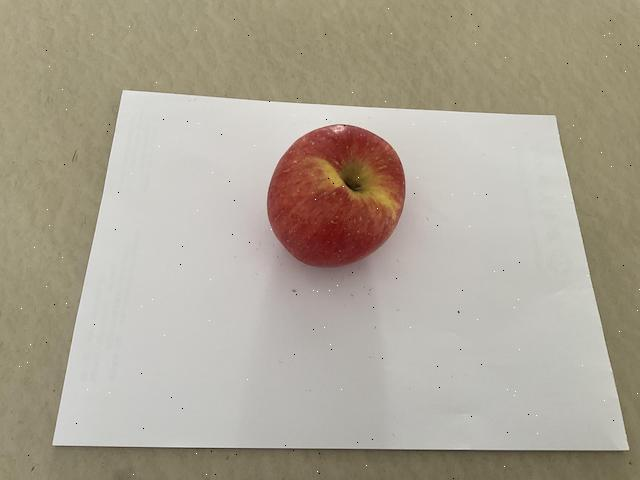apple: (261, 120, 411, 271)
